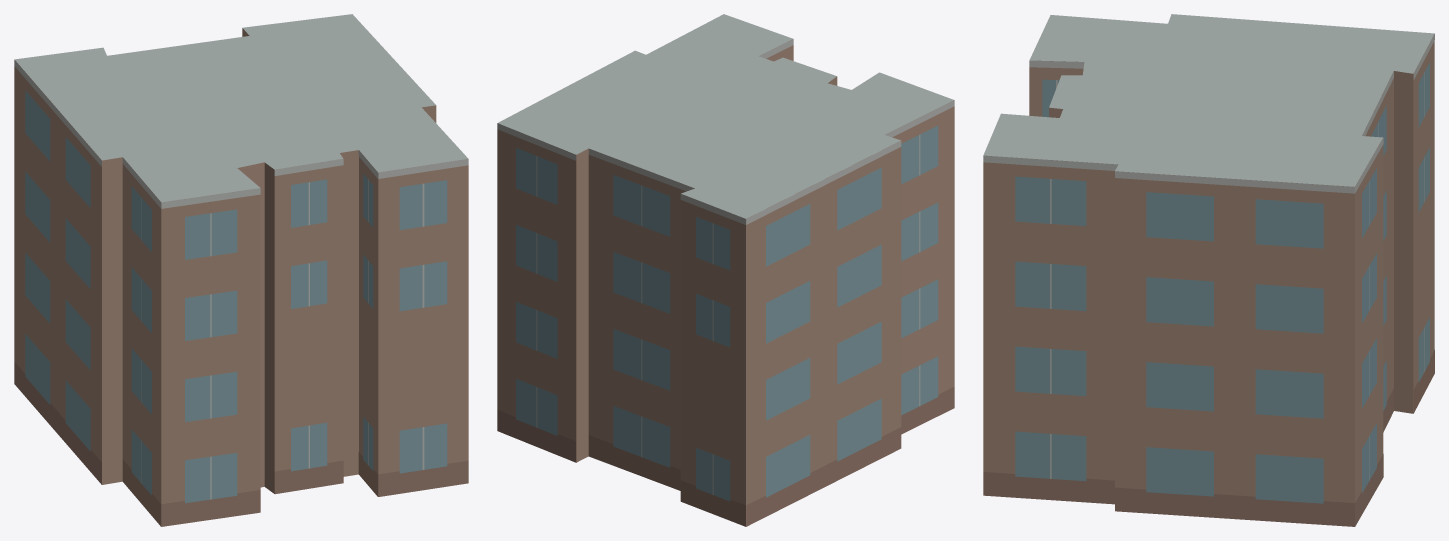
Rendered from survey-upis-32675970.glb.
The picture shows the model from 3 angles, left to right: view 1: azimuth 30°, elevation 25°; view 2: azimuth 150°, elevation 25°; view 3: azimuth 270°, elevation 25°; orthographic projection. The views are drawn at different scales.
Parts seen in each view (by area): view 1: survey-upis-32675970.tmp; view 2: survey-upis-32675970.tmp; view 3: survey-upis-32675970.tmp.
Boxes of the visible parts, left/top/right/bottom form: survey-upis-32675970.tmp: left=14, top=14, right=468, bottom=526; survey-upis-32675970.tmp: left=497, top=14, right=954, bottom=526; survey-upis-32675970.tmp: left=983, top=14, right=1434, bottom=526.
Size of the model in its own units: 13.31 by 12.2 by 14.69.
